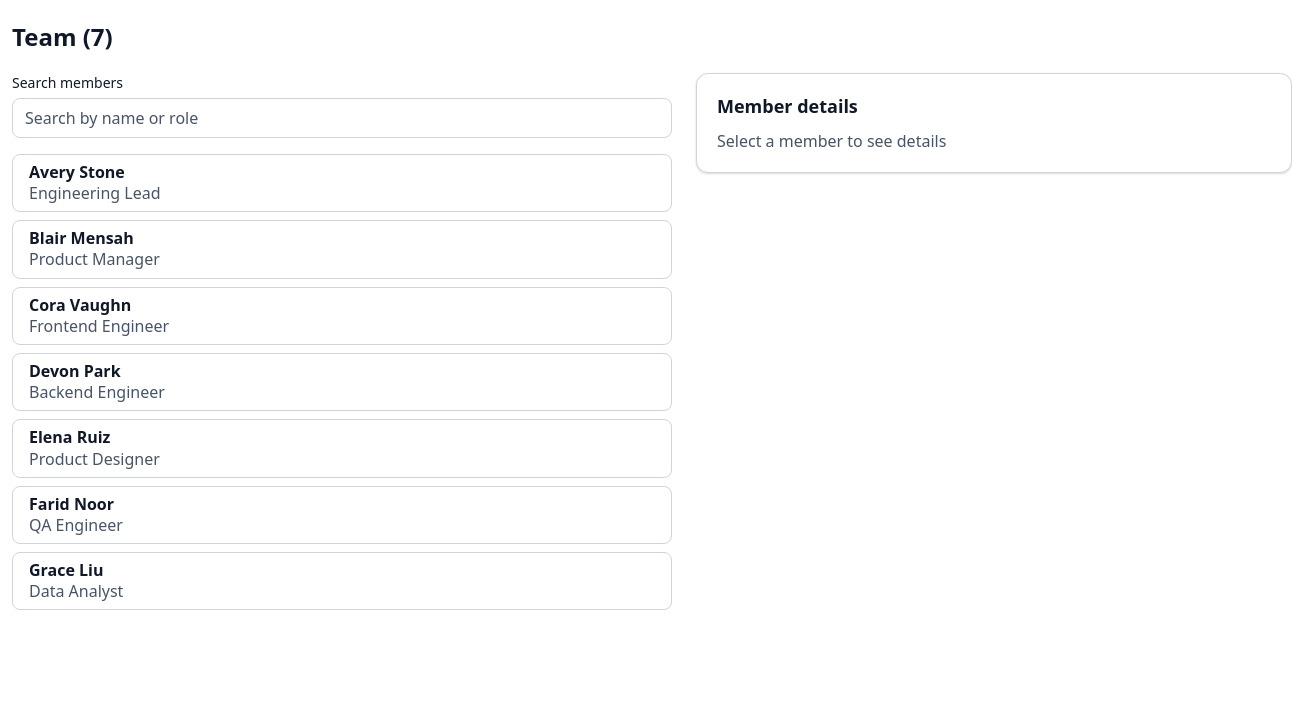
TeamPage member detail panel (RMIN-132) › updates the panel to member B after selecting A then B (AC3)
The image size is (1292, 720).
Click the button "Avery Stone Engineering Lead".
click(77, 172)  # box [12,154,672,212]
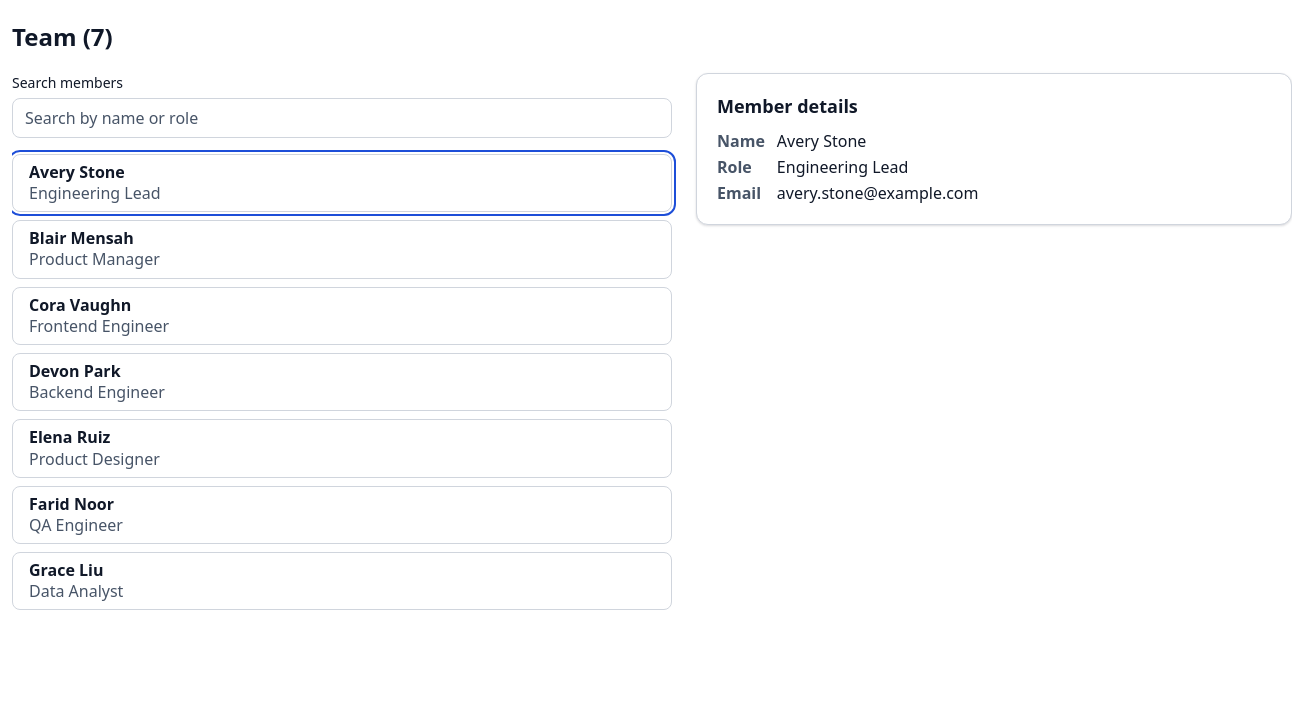
Click the button "Blair Mensah Product Manager".
click(81, 238)  # box [12,220,672,279]
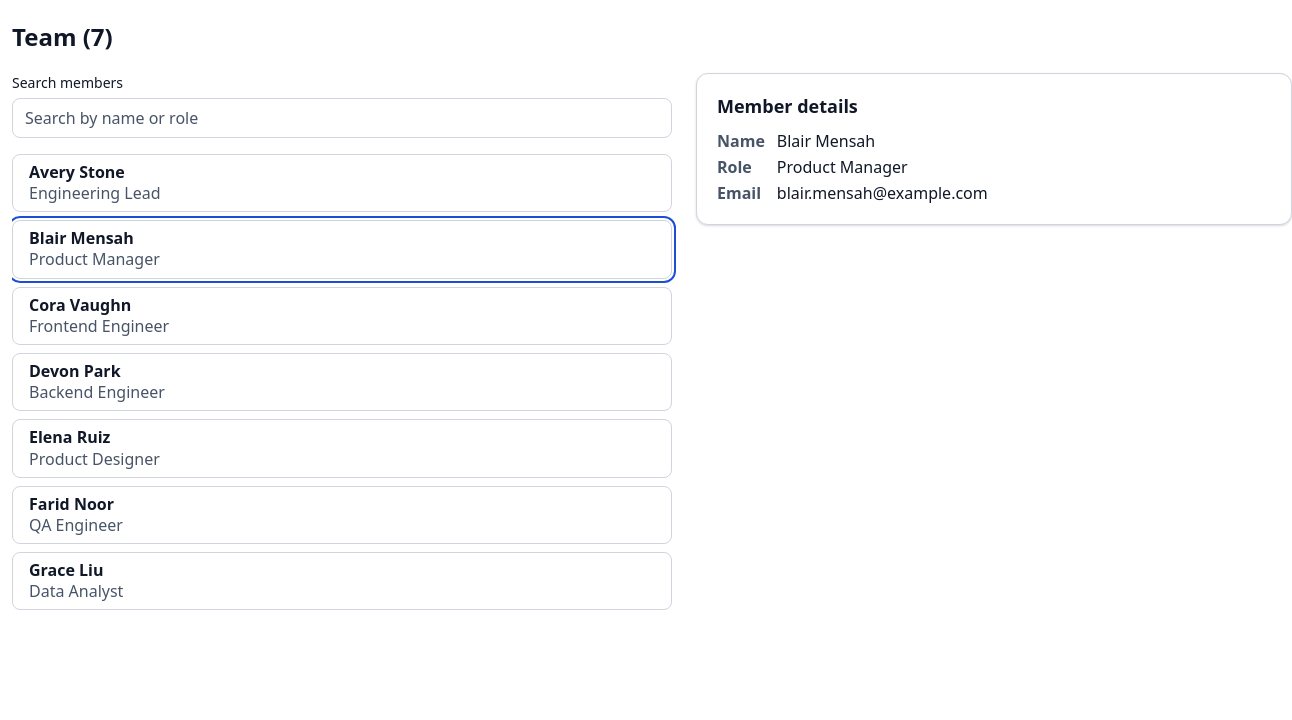
Check: the text "Blair Mensah" next to "Name" is shown, box [777,130,875,152]
Check: the text "blair.mensah@example.com" is shown, box [777,182,988,204]
Check: the text "avery.stone@example.com" is gone
